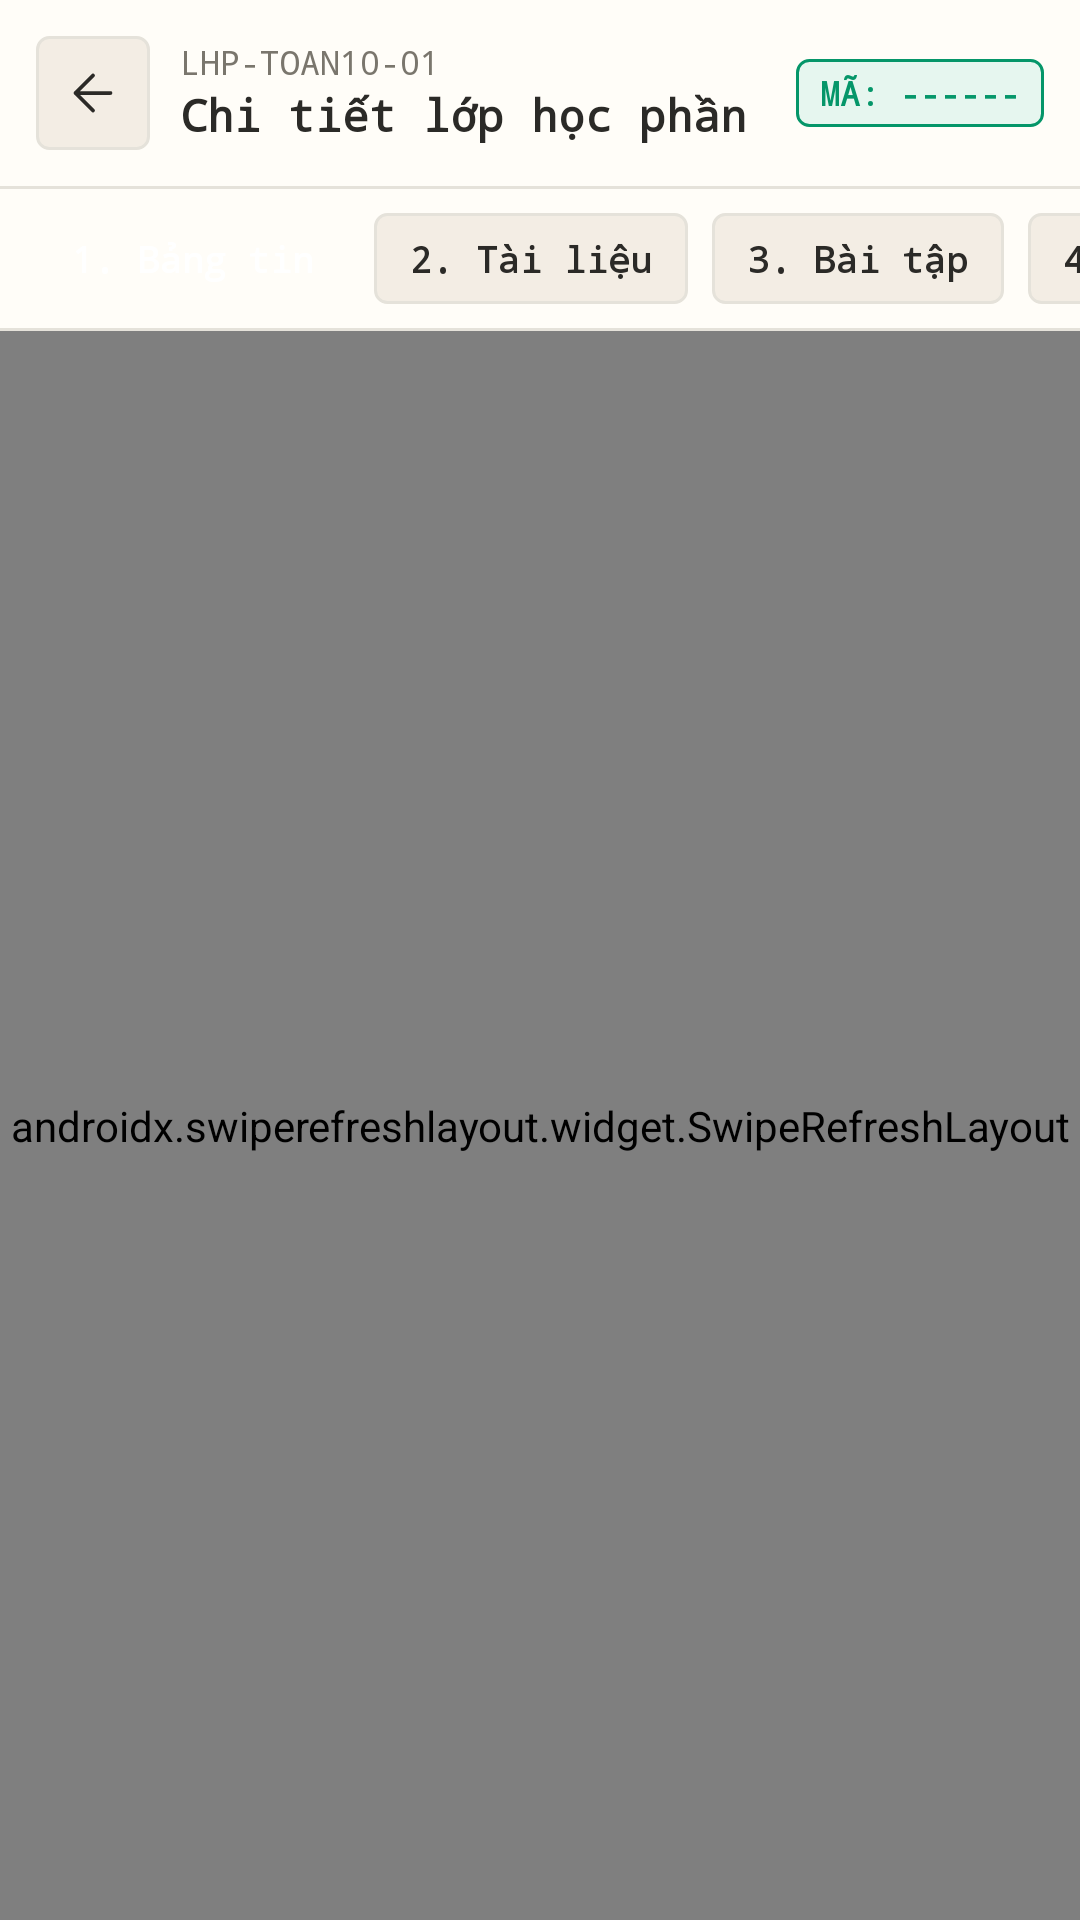

Where icons sit on this 1080px x 1920px app screen, as detection(x1, y1, x2, y2):
Quay lại: detection(36, 36, 150, 150)
